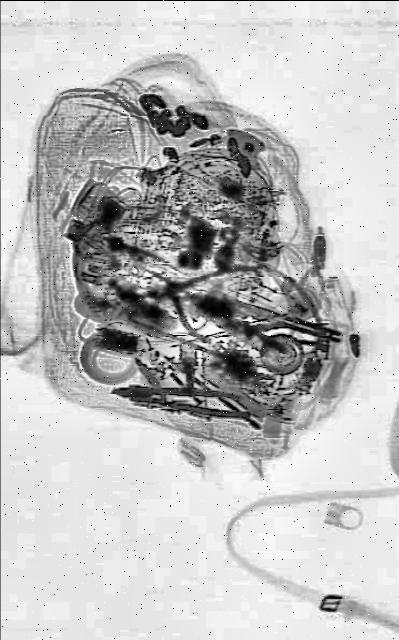Pliers: (144, 235, 254, 352), (111, 374, 249, 418)
